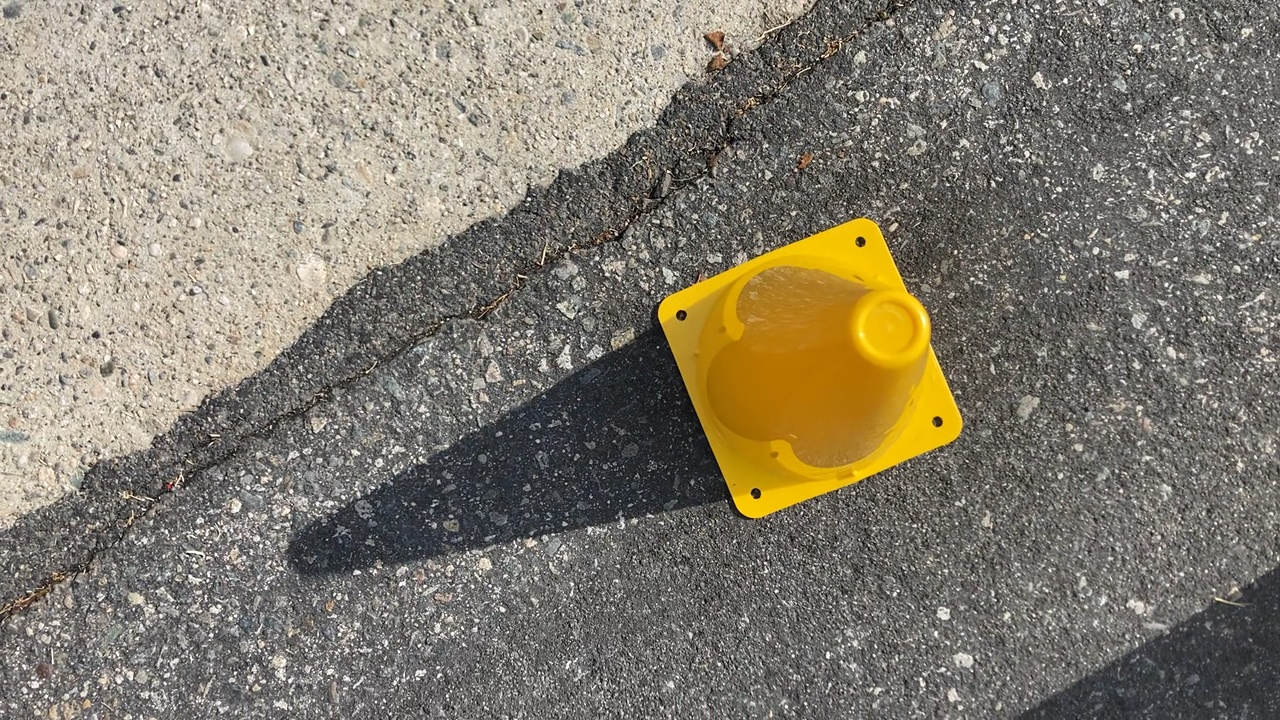yellow_cone: (654, 217, 967, 523)
